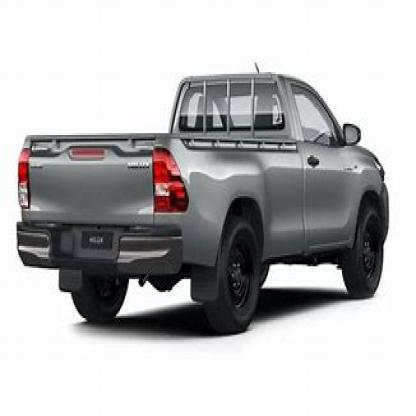light_vehicle: (9, 57, 397, 338)
